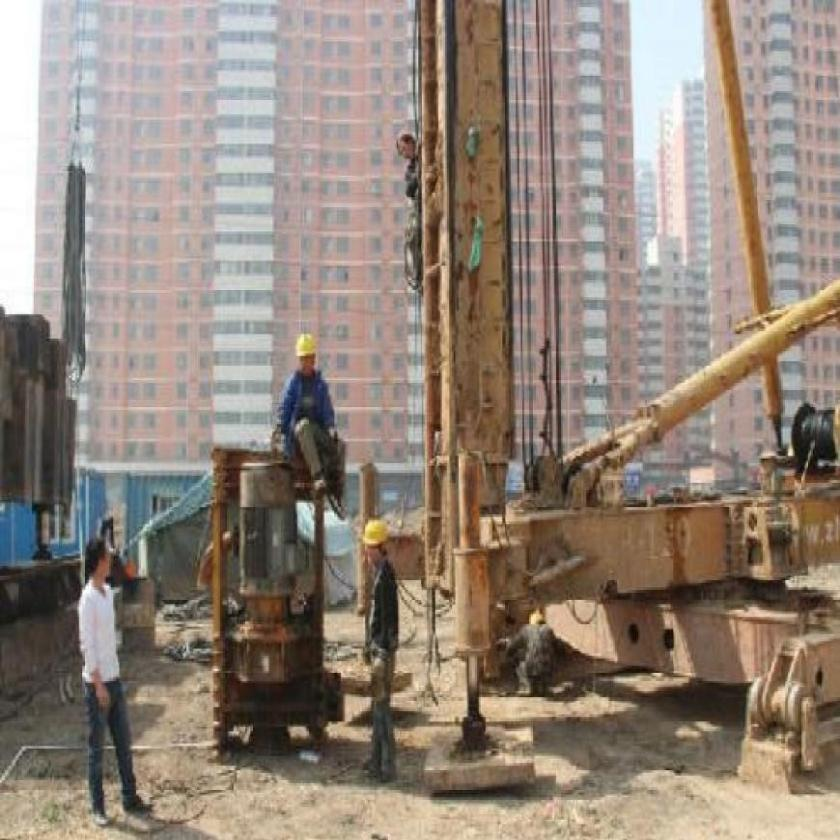Con_casco: (359, 516, 393, 566), (290, 332, 320, 380)
Sin_casco: (87, 538, 117, 591)
